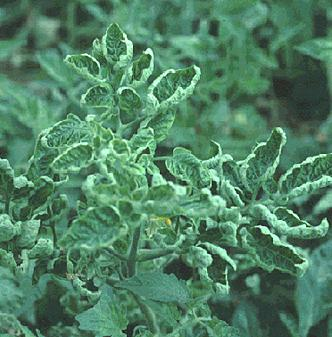Tomato leaf yellow virus: (234, 224, 332, 289), (49, 200, 131, 260), (266, 142, 332, 210), (45, 130, 117, 184), (243, 205, 332, 241), (251, 118, 296, 187), (32, 112, 92, 163), (100, 17, 135, 88), (143, 65, 202, 107), (47, 54, 114, 86)
